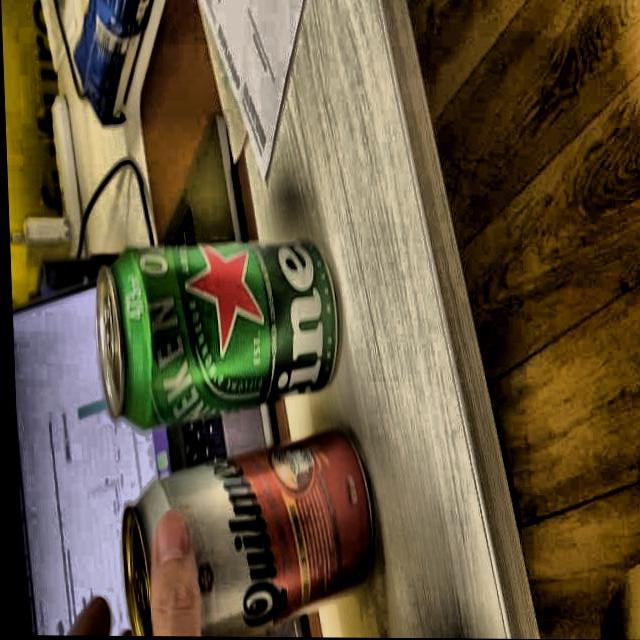Aluminum Can: (106, 424, 372, 638), (82, 232, 344, 431)
